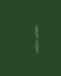one: (19, 21, 40, 55)
